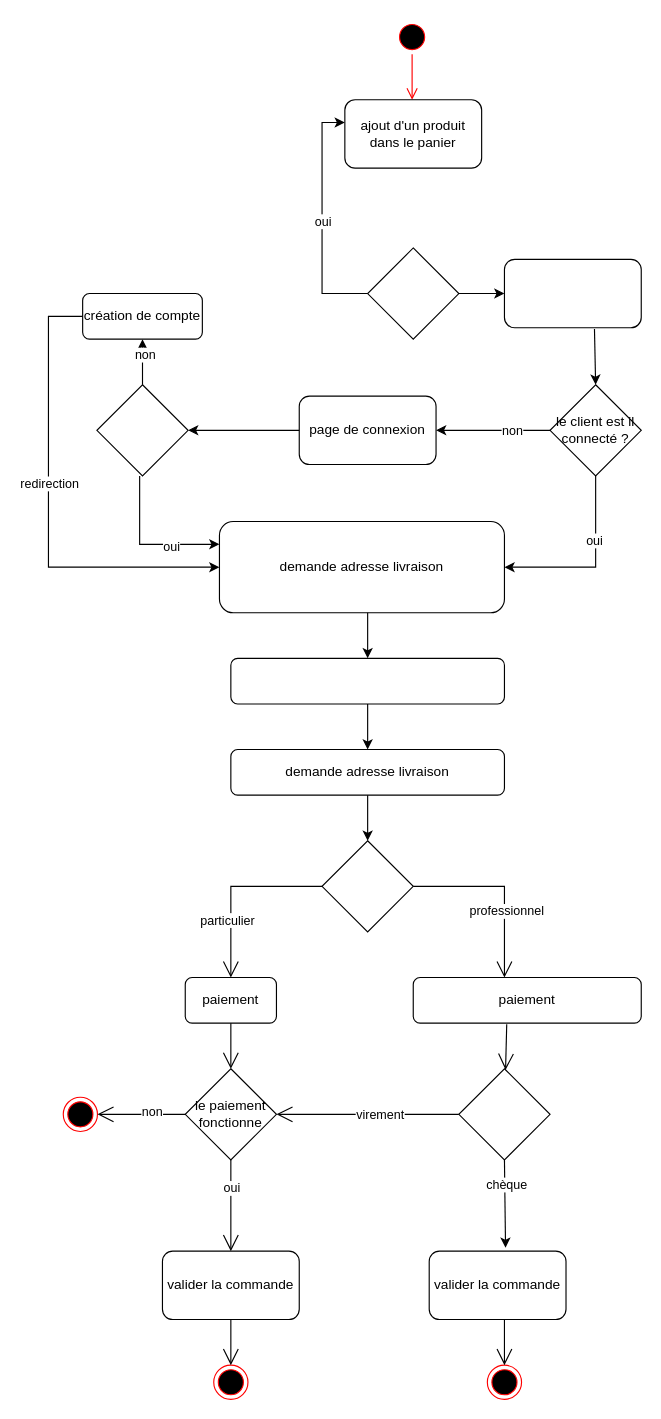
Some shapes in this 661 by 1419 pixel diagram are drawn without their labels. Here are the shapes that lost their labels. From the top down, the box of each, then its label:
(367, 247, 459, 339): ajouter d'autres articles ?
(503, 258, 641, 328): valide la commande
(96, 384, 188, 476): le client a un compte ?
(230, 657, 504, 704): demande adresse facturation
(321, 840, 413, 932): Quel est le statut du client ?
(458, 1068, 550, 1160): quel est le moyen de paiement ?
